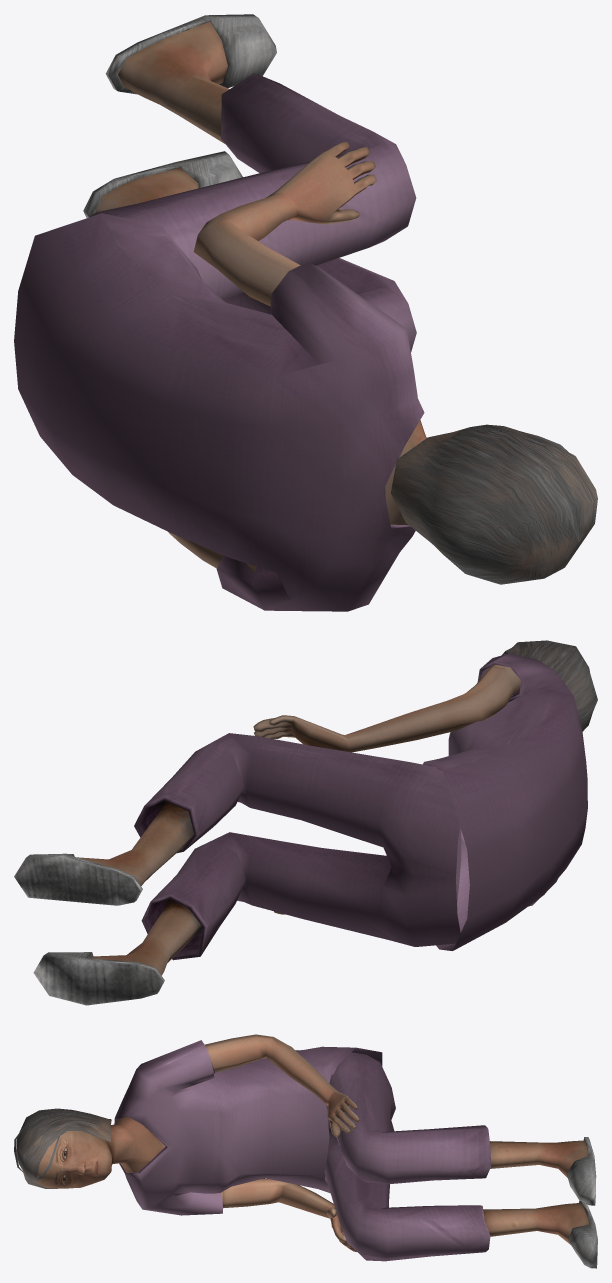
The model's file is PatientFSit.obj.
The picture shows the model from 3 angles, top to bottom: view 1: azimuth 30°, elevation 25°; view 2: azimuth 150°, elevation 25°; view 3: azimuth 270°, elevation 25°; orthographic projection. The views are drawn at different scales.
Visible parts, largest first — view 1: PatientFSit_PatientF.001; view 2: PatientFSit_PatientF.001; view 3: PatientFSit_PatientF.001.
Boxes of the visible parts, x1,y1,x2,y2 form: PatientFSit_PatientF.001: (14, 14, 597, 611); PatientFSit_PatientF.001: (14, 640, 597, 1005); PatientFSit_PatientF.001: (14, 1034, 597, 1268).
Bounding box in the file's own units: 0.5981 × 0.4023 × 1.18.
1 material, 1 textured.
